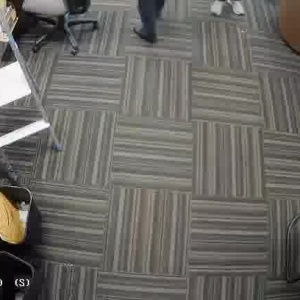person: (134, 0, 166, 42)
